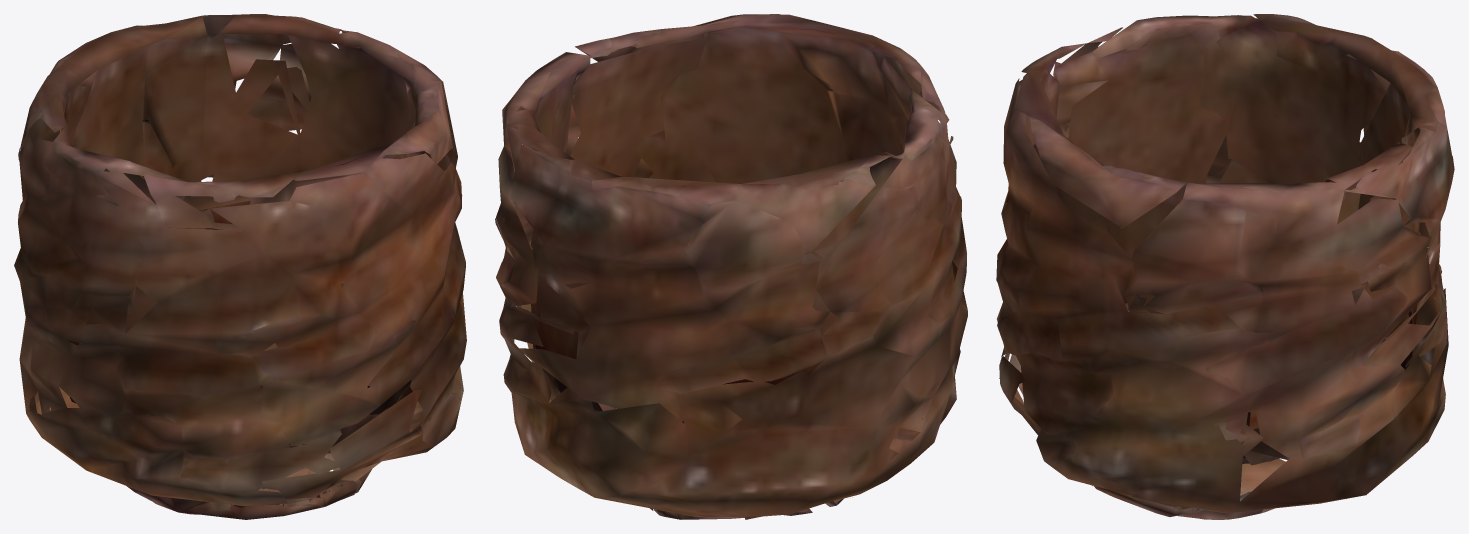
The model's file is hm-japanese-coiled-tea-bowl.lod1.glb.
3 views of the same model, side by side, from view 1: azimuth 30°, elevation 25°; view 2: azimuth 150°, elevation 25°; view 3: azimuth 270°, elevation 25° (orthographic). The views are drawn at different scales.
Visible parts, largest first — view 1: Object_2, Object_3; view 2: Object_2, Object_3; view 3: Object_2, Object_3.
Part boxes in pixels (x1,y1,x2,y2): Object_2: (14, 14, 466, 519); Object_3: (19, 14, 462, 507); Object_2: (496, 14, 967, 519); Object_3: (495, 14, 961, 519); Object_2: (996, 15, 1448, 519); Object_3: (999, 14, 1454, 491).
Size of the model in its own units: 0.0805 by 0.0708 by 0.0788.
1 material, 1 textured.
